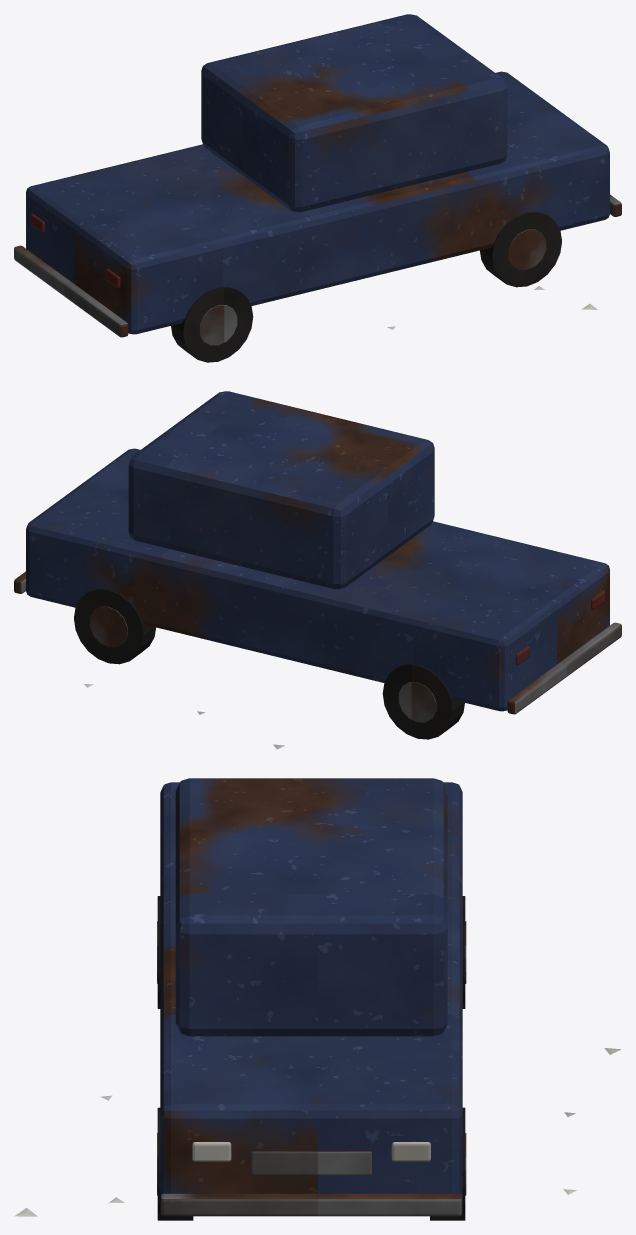
The model's file is JV05_car_smashed_windows_v1.glb.
The picture shows the model from 3 angles, top to bottom: view 1: azimuth 30°, elevation 25°; view 2: azimuth 150°, elevation 25°; view 3: azimuth 270°, elevation 25°; orthographic projection. The views are drawn at different scales.
Visible parts, largest first — view 1: JV05_car_smashed_windows_v1; view 2: JV05_car_smashed_windows_v1; view 3: JV05_car_smashed_windows_v1.
Part boxes in pixels (x1,y1,x2,y2): JV05_car_smashed_windows_v1: [14, 14, 621, 362]; JV05_car_smashed_windows_v1: [14, 391, 621, 749]; JV05_car_smashed_windows_v1: [14, 778, 621, 1220].
Size of the model in its own units: 4.4 by 1.71 by 3.28.
Materials: 6 (6 with a texture image).
